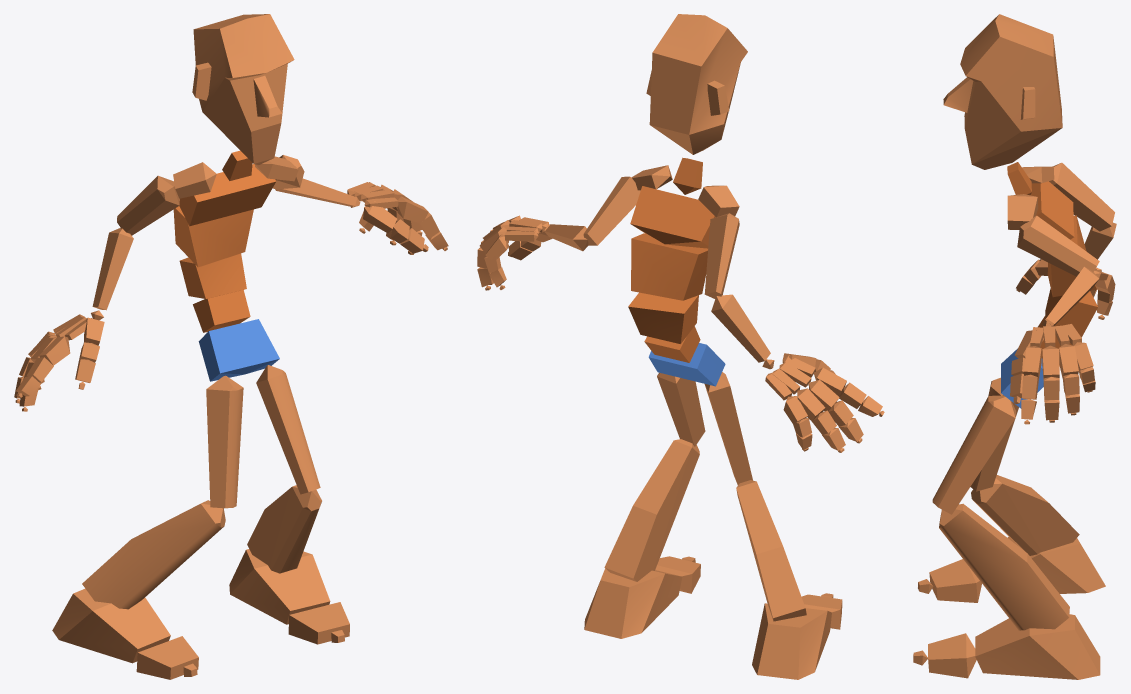
File: prueba242.obj
The picture shows the model from 3 angles, left to right: view 1: azimuth 30°, elevation 25°; view 2: azimuth 150°, elevation 25°; view 3: azimuth 270°, elevation 25°; orthographic projection. The views are drawn at different scales.
Parts seen in each view (by area): view 1: BOPED_Head, BOPED_R_leg, BOPED_R_foot, BOPED_R_foot01, BOPED_R_legup, BOPED_L_leg, BOPED_L_legup, Bone01, Bone04, Bone05, Bone03, BOPED_R_arm_upper (+8 smaller); view 2: BOPED_Head, BOPED_L_leg, BOPED_R_foot01, BOPED_R_foot, BOPED_R_leg, Bone04, Bone05, Bone03, BOPED_R_legup, BOPED_L_legup, BOPED_R_arm_upper, BOPED_L_arm_upper (+9 smaller); view 3: BOPED_Head, BOPED_L_leg, BOPED_R_foot01, BOPED_R_leg, BOPED_L_legup, BOPED_R_foot, BOPED_L_arm_upper, BOPED_R_arm_upper, BOPED_R_foot_toe04, BOPED_R_foot_toe01, Bone05, BOPED_L_arm_fore (+15 smaller).
Part boxes in pixels (x1,y1,x2,y2): BOPED_Head: (192, 14, 294, 164); BOPED_R_leg: (82, 500, 225, 609); BOPED_R_foot: (52, 588, 170, 663); BOPED_R_foot01: (229, 549, 330, 624); BOPED_R_legup: (206, 375, 243, 508); BOPED_L_leg: (247, 485, 321, 573); BOPED_L_legup: (256, 365, 320, 494); Bone01: (198, 319, 279, 381); Bone04: (173, 206, 253, 267); Bone05: (179, 164, 276, 226); Bone03: (179, 253, 246, 298); BOPED_R_arm_upper: (117, 175, 179, 235); BOPED_Head: (646, 14, 747, 154); BOPED_L_leg: (604, 439, 699, 581); BOPED_R_foot01: (584, 568, 682, 638); BOPED_R_foot: (752, 603, 831, 679); BOPED_R_leg: (736, 480, 806, 621); Bone04: (631, 233, 707, 300); Bone05: (630, 186, 715, 248); Bone03: (628, 292, 698, 343); BOPED_R_legup: (704, 372, 752, 484); BOPED_L_legup: (657, 373, 705, 446); BOPED_R_arm_upper: (704, 213, 739, 298); BOPED_L_arm_upper: (583, 176, 640, 245); BOPED_Head: (943, 14, 1062, 169); BOPED_L_leg: (939, 503, 1069, 630); BOPED_R_foot01: (975, 614, 1100, 679); BOPED_R_leg: (971, 475, 1079, 555); BOPED_L_legup: (932, 395, 1015, 514); BOPED_R_foot: (1007, 537, 1105, 593); BOPED_L_arm_upper: (1017, 215, 1099, 276); BOPED_R_arm_upper: (1049, 162, 1114, 231); BOPED_R_foot_toe04: (928, 633, 976, 678); BOPED_R_foot_toe01: (929, 559, 981, 602); Bone05: (1031, 181, 1074, 239); BOPED_L_arm_fore: (1042, 266, 1099, 326).
Bounding box in the file's own units: 130 × 180 × 53.7.
